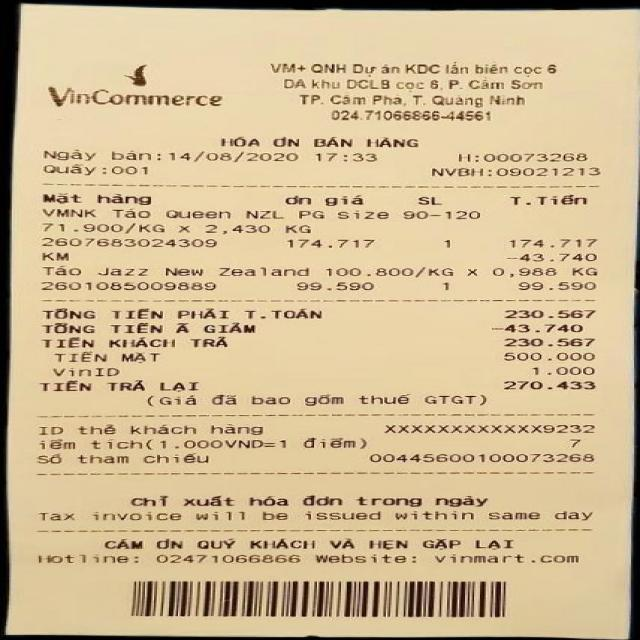Date: (166, 145, 302, 168)
Store_Name: (42, 78, 228, 116)
amount_number: (501, 300, 596, 322)
label_total: (40, 304, 326, 322)
